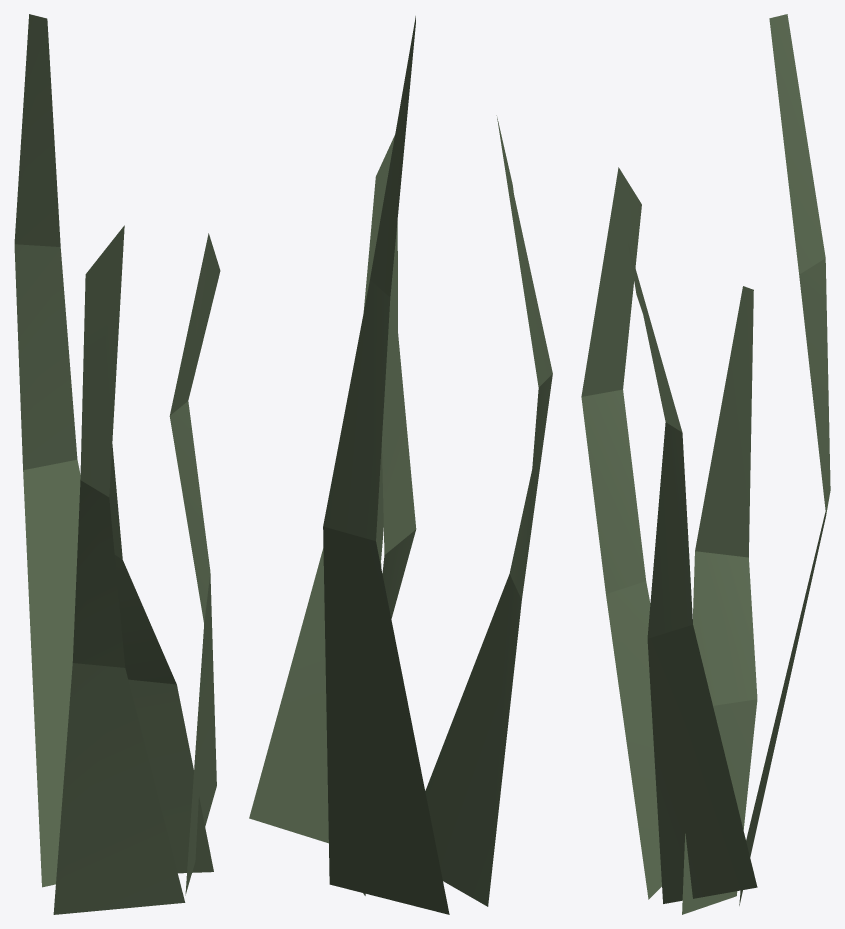
The model's file is Grass_01.fbx.
3 renders of one model, left to right at view 1: azimuth 30°, elevation 25°; view 2: azimuth 150°, elevation 25°; view 3: azimuth 270°, elevation 25°, orthographic. The views are drawn at different scales.
Parts seen in each view (by area): view 1: Grass_01; view 2: Grass_01; view 3: Grass_01.
Part boxes in pixels (<box>): Grass_01: <box>14,14,220,914</box>; Grass_01: <box>249,16,552,914</box>; Grass_01: <box>581,14,830,914</box>.
Bounding box in the file's own units: 0.7854 × 3.16 × 0.8406.
